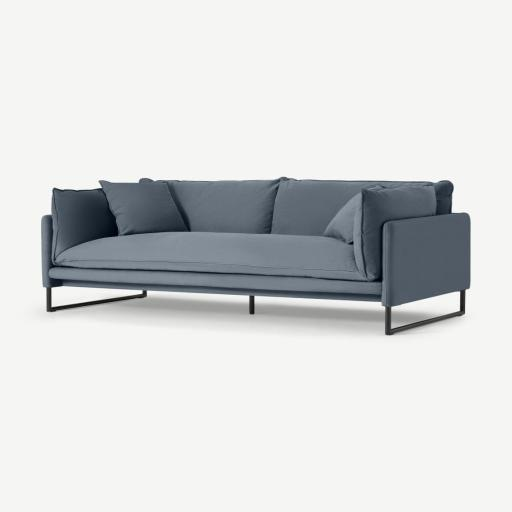back_cushion: (53, 178, 420, 256)
base: (49, 267, 381, 295)
left_arm: (383, 214, 470, 315)
legs: (385, 290, 465, 335), (46, 288, 146, 312), (249, 296, 254, 314)
right_arm: (41, 215, 60, 287)
seat_cushion: (57, 232, 365, 281)
two-seater: (0, 0, 511, 512)
